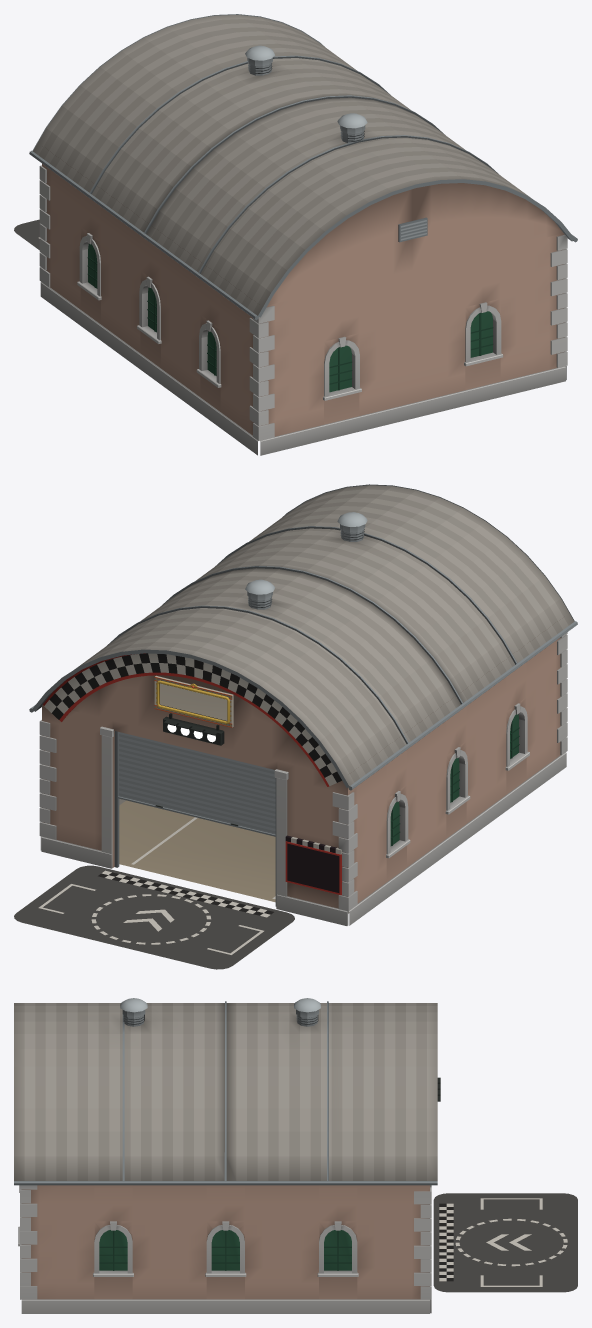
Rendered from pav_karting.glb.
3 renders of one model, top to bottom at view 1: azimuth 30°, elevation 25°; view 2: azimuth 150°, elevation 25°; view 3: azimuth 270°, elevation 25°, orthographic. The views are drawn at different scales.
Visible parts, largest first — view 1: static_karting; view 2: static_karting, static_startgrid, live_door; view 3: static_karting, static_startgrid.
Boxes of the visible parts, x1,y1,x2,y2 form: static_karting: (29, 14, 577, 455); static_karting: (29, 484, 577, 925); static_startgrid: (14, 865, 294, 969); live_door: (118, 732, 275, 836); static_karting: (14, 998, 440, 1313); static_startgrid: (433, 1193, 577, 1292).
Size of the model in its own units: 13.73 by 10.5 by 22.1.
